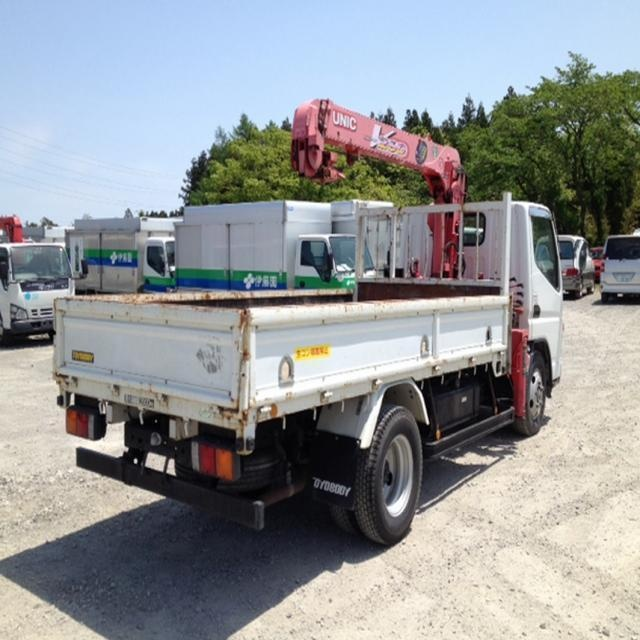Truck: (50, 94, 562, 542)
